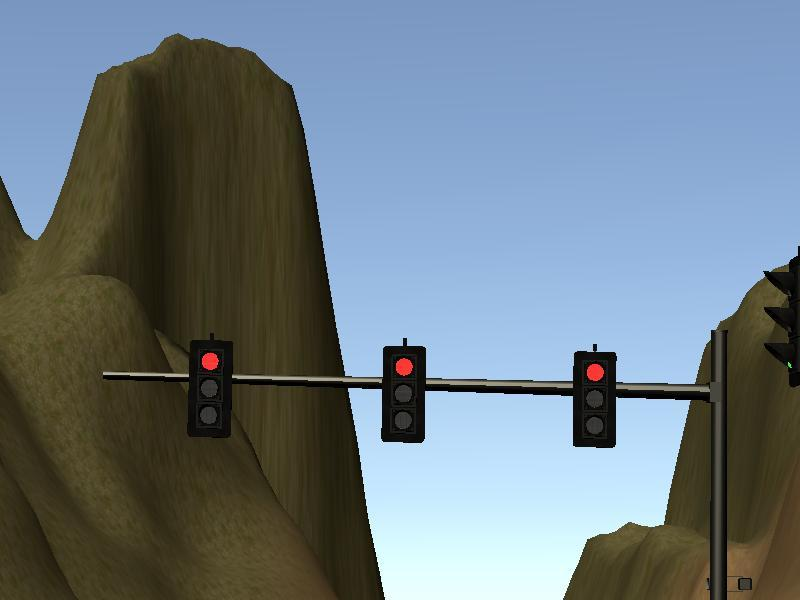Red: (572, 352, 615, 447), (381, 347, 424, 442), (188, 341, 231, 436)
